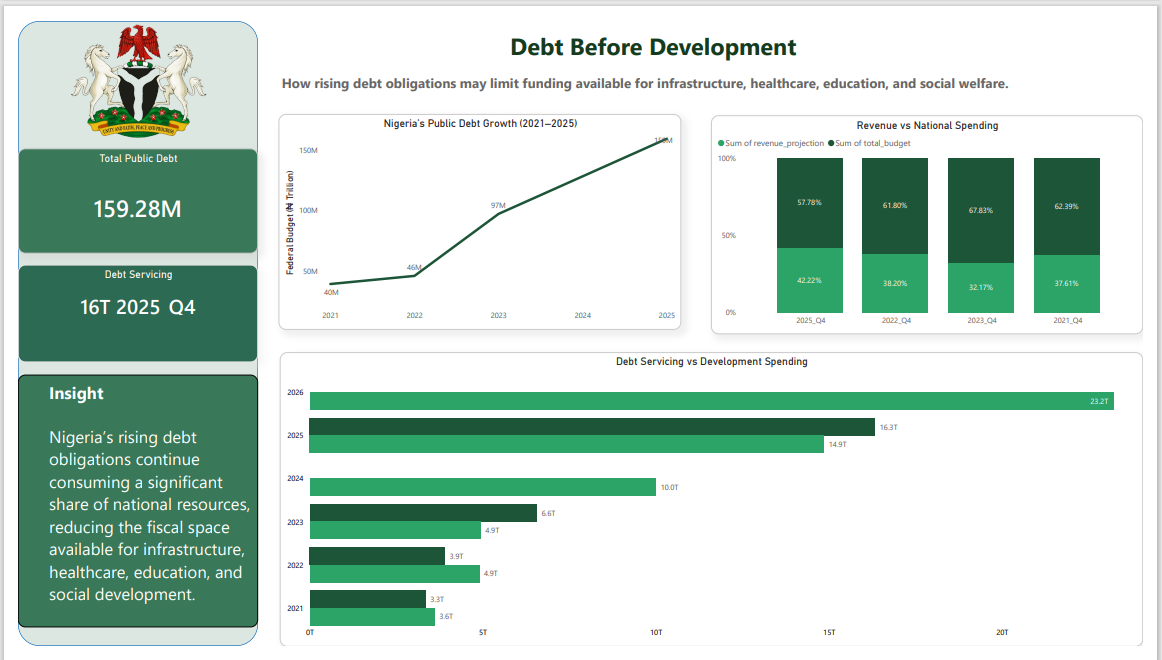

The dashboard page shown, as its layout file describes it:
{"tool":"powerbi","page":{"name":"Debt Before Development","canvas":[1800,1000],"ordinal":1},"visuals":[{"type":"shape","box":[0,0,383.7,1000.3],"z":0},{"type":"textbox","box":[418.9,10.1,1194.7,68.7],"z":1000},{"type":"textbox","box":[417.4,79.4,1233.7,42.8],"z":2000},{"type":"lineChart","title":"Nigeria’s Public Debt Growth (2021–2025)","fields":{"Category":["Historical_Budget_Clean.xlsx.year"],"Y":["Sum(Nigeria_Debt_Profile_2021_2025.total_public_debt_naira_million)"]},"box":[416.8,148.6,644.5,345.4],"z":3000},{"type":"clusteredBarChart","title":"Debt Servicing vs Development Spending","fields":{"Category":["Historical_Budget_Clean.xlsx.year"],"Y":["Sum(Nigeria_Debt_Profile_2021_2025.debt_service)","Sum(Historical_Budget_Clean.xlsx.capital_expenditure)"]},"box":[418.6,530.2,1381.4,470.9],"z":4000},{"type":"hundredPercentStackedColumnChart","title":"Revenue vs National Spending","fields":{"Category":["Nigeria_Debt_Profile_2021_2025.year_quarter"],"Y":["Sum(Historical_Budget_Clean.xlsx.revenue_projection)","Sum(Historical_Budget_Clean.xlsx.total_budget)"]},"box":[1109.3,150.8,690.4,350.2],"z":5000},{"type":"textbox","box":[0,566.4,383.7,403.8],"z":6000},{"type":"cardVisual","title":"Total Public Debt","fields":{"Data":["Sum(Nigeria_Debt_Profile_2021_2025.total_public_debt_naira_million)"]},"box":[0,204.4,383.7,167.6],"z":7000},{"type":"cardVisual","title":"Debt Servicing","fields":{"Rows":["Nigeria_Debt_Profile_2021_2025.debt_service","Nigeria_Debt_Profile_2021_2025.year_quarter"]},"box":[0,390.4,383.7,155.8],"z":8000},{"type":"image","box":[43.6,0,299.9,204.4],"z":9000}]}

Visuals, with their boxes in screenshot pixels (x1, y1, x2, y2), scaled from the page's 1800x1000 canvas onto the 1162x660 screenshot:
shape: left=0, top=0, right=248, bottom=659
textbox: left=270, top=7, right=1042, bottom=52
textbox: left=269, top=52, right=1066, bottom=81
"Nigeria’s Public Debt Growth (2021–2025)" lineChart: left=269, top=98, right=685, bottom=326
"Debt Servicing vs Development Spending" clusteredBarChart: left=270, top=350, right=1161, bottom=659
"Revenue vs National Spending" hundredPercentStackedColumnChart: left=716, top=100, right=1161, bottom=331
textbox: left=0, top=374, right=248, bottom=640
"Total Public Debt" cardVisual: left=0, top=135, right=248, bottom=246
"Debt Servicing" cardVisual: left=0, top=258, right=248, bottom=360
image: left=28, top=0, right=222, bottom=135
